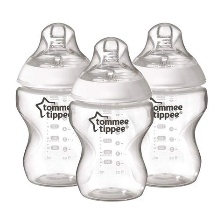bottle: (65, 73, 156, 206), (127, 59, 209, 190), (14, 63, 93, 187)
